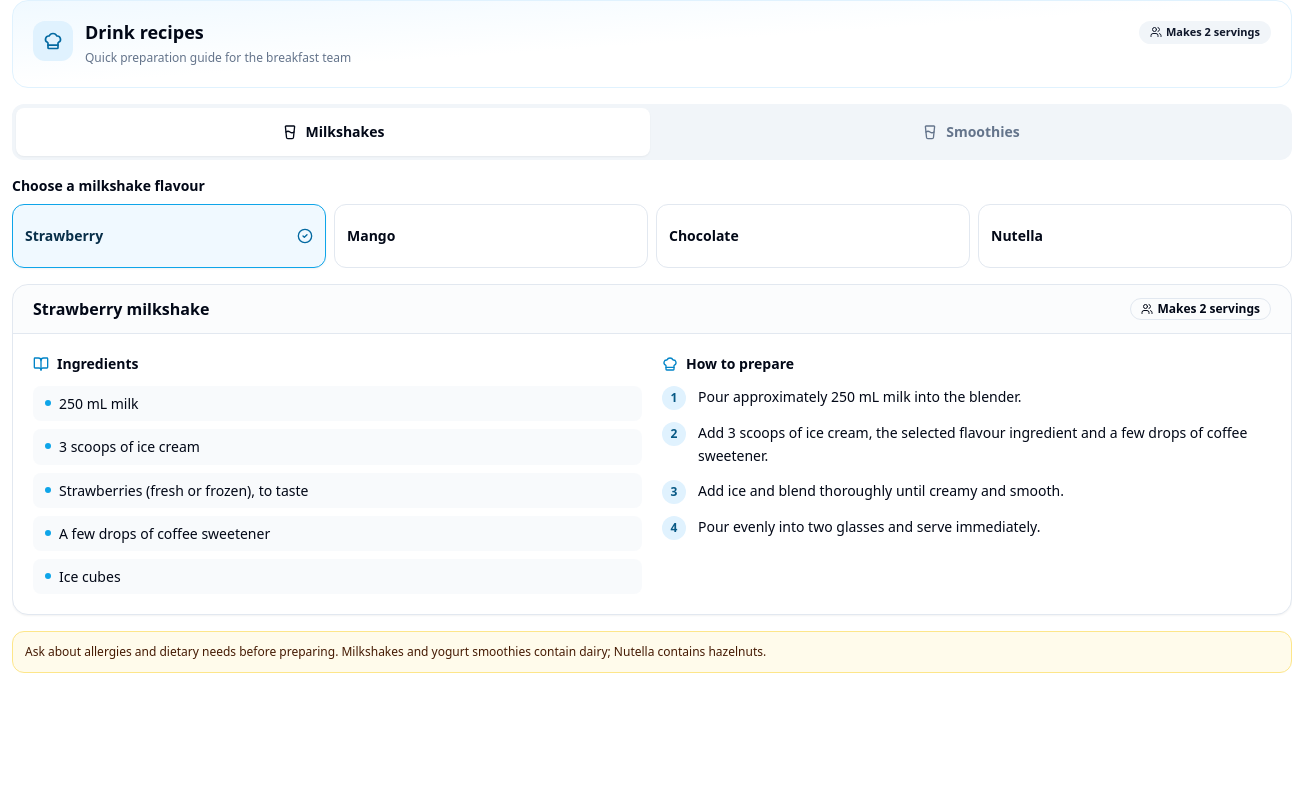
BreakfastRecipes › shows the two-serving milkshake instructions and changes the selected flavour
Expected: the text "Makes 2 servings" in the row of "Drink recipes" is shown, [1166, 24, 1260, 39]
Expected: the text "250 mL milk" is shown, [59, 394, 138, 413]
What coordinates should you click on to do the following:
click the button "Nutella"
I would click on:
 (1017, 236)
Its box is [978, 204, 1292, 268].
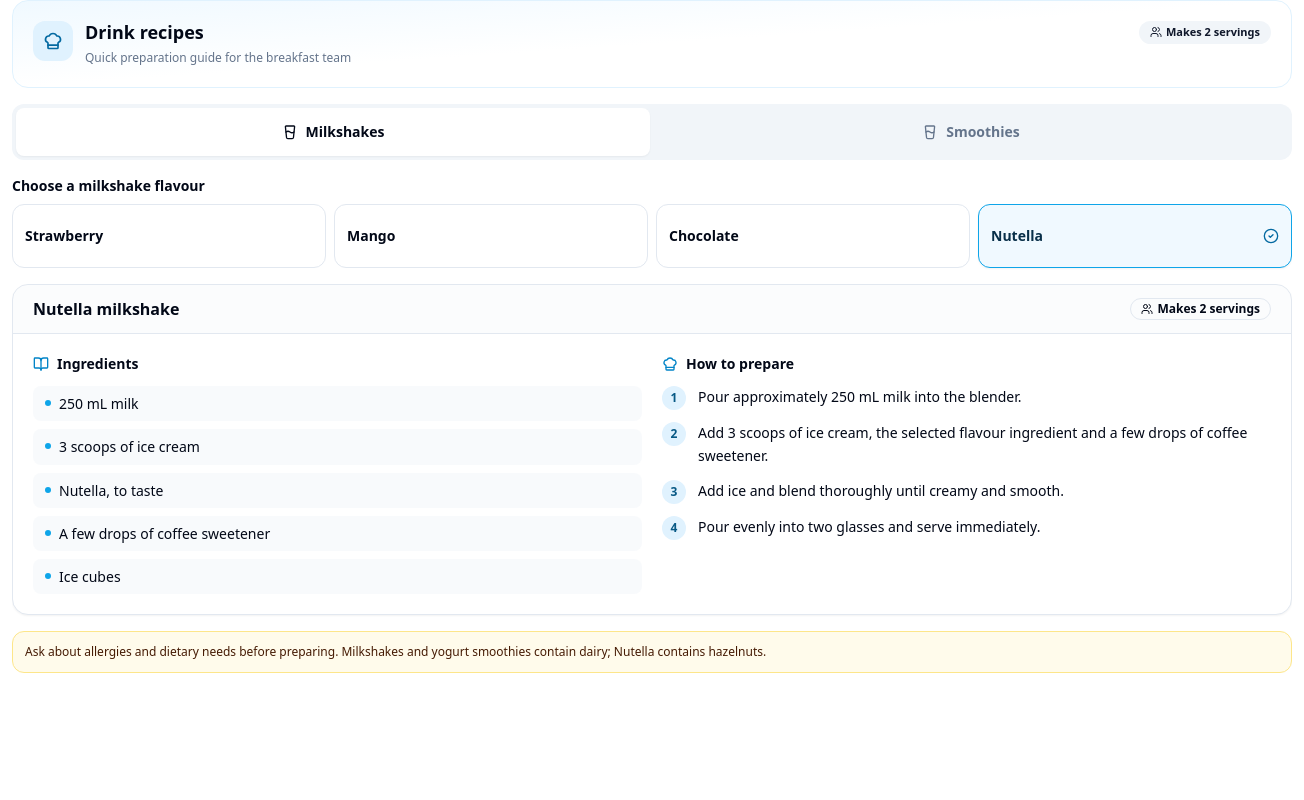
Result: the heading "Nutella milkshake" is shown at [33, 297, 179, 321]
Result: the text "Nutella, to taste" is shown at [59, 480, 164, 500]
